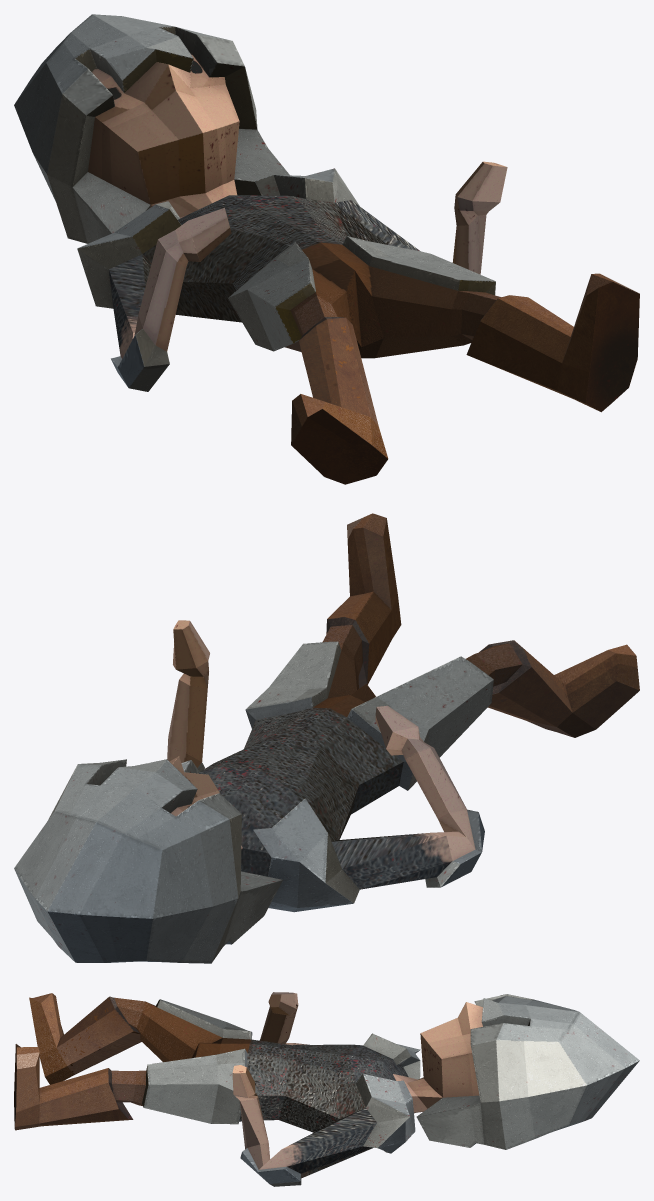
The model's file is Walk_Soldier_23.obj.
The picture shows the model from 3 angles, top to bottom: view 1: azimuth 30°, elevation 25°; view 2: azimuth 150°, elevation 25°; view 3: azimuth 270°, elevation 25°; orthographic projection. The views are drawn at different scales.
Visible parts, largest first — view 1: Soldado_LowPolySTD; view 2: Soldado_LowPolySTD; view 3: Soldado_LowPolySTD.
Boxes of the visible parts, left/top/right/bottom form: Soldado_LowPolySTD: left=14, top=14, right=639, bottom=484; Soldado_LowPolySTD: left=14, top=513, right=639, bottom=963; Soldado_LowPolySTD: left=14, top=992, right=639, bottom=1186.
Bounding box in the file's own units: 0.7289 × 0.3959 × 1.6.
